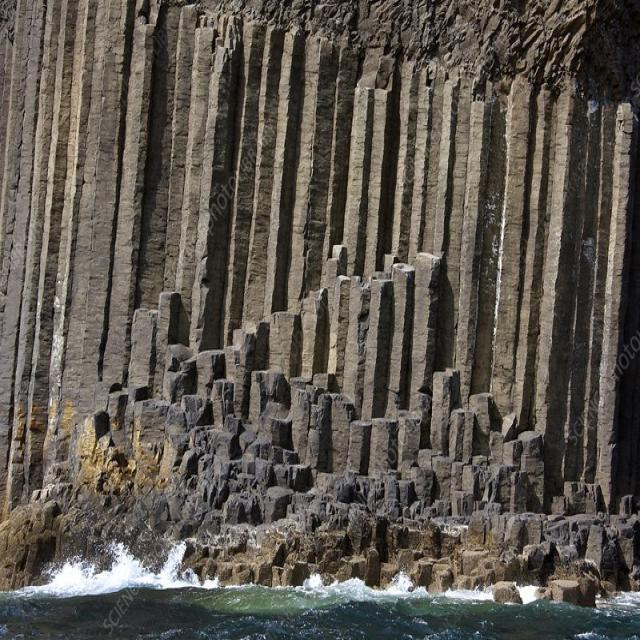Igneous: (1, 4, 626, 596)
